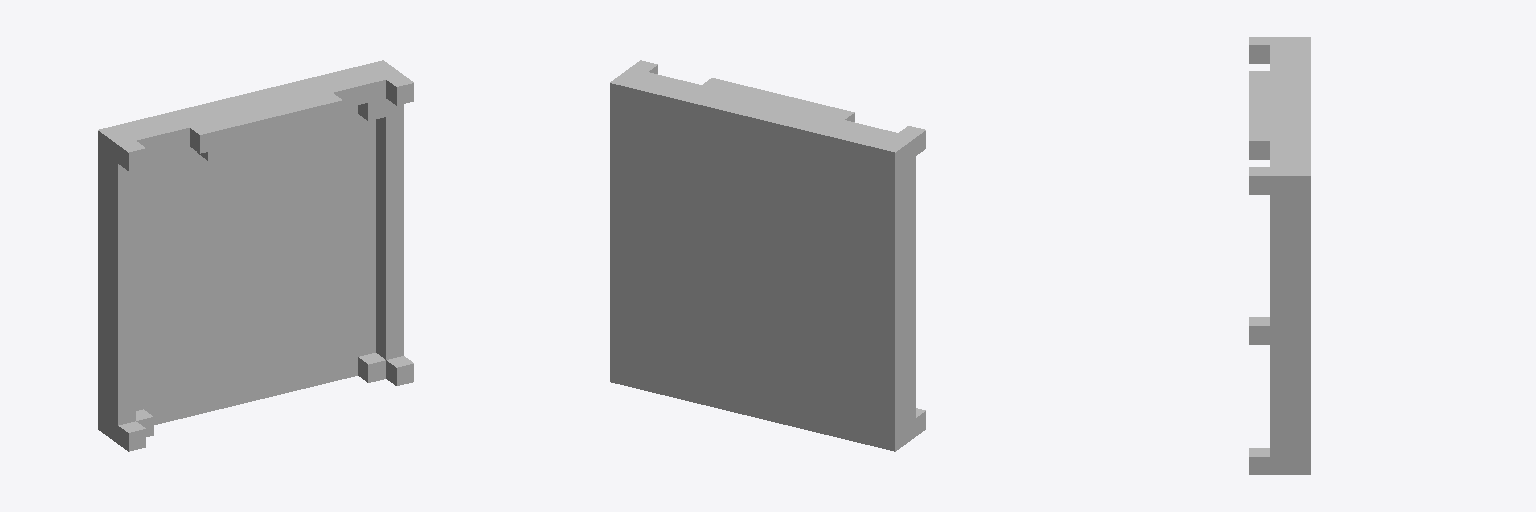
File: Static Objects-16.obj
The picture shows the model from 3 angles: view 1: azimuth 30°, elevation 25°; view 2: azimuth 150°, elevation 25°; view 3: azimuth 270°, elevation 25°; orthographic projection.
Visible parts, largest first — view 1: object 1; view 2: object 1; view 3: object 1.
Part boxes in pixels (x1,y1,x2,y2): object 1: (98,60,413,451); object 1: (610,60,925,451); object 1: (1249,37,1310,474).
Size of the model in its own units: 1.6 by 1.6 by 0.3.